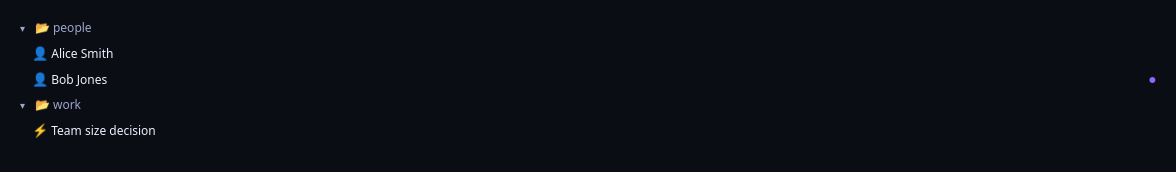
FileTree — context menu › Rename shows inline input pre-filled with note title
The width and height of the screenshot is (1176, 172).
Right-click the button with test id "tree-file" showing "👤 Alice Smith".
right_click(82, 53)  # box [12, 40, 1164, 66]
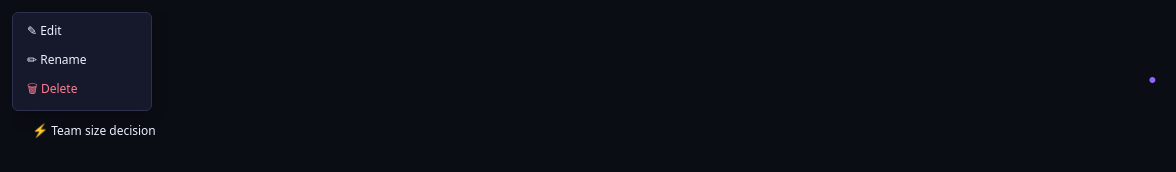
Click the menu item with test id "context-rename".
click(82, 60)  # box [13, 45, 151, 74]
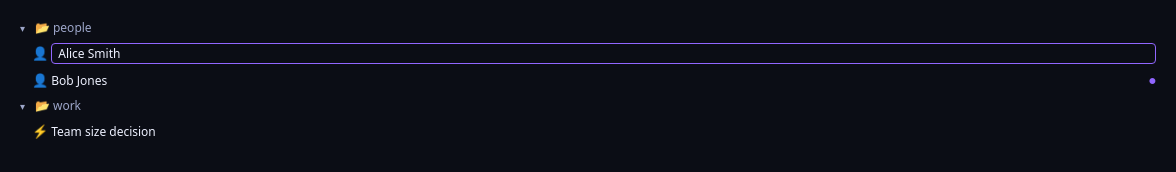
Now the field with test id "rename-input" is shown, box [51, 43, 1156, 64]
